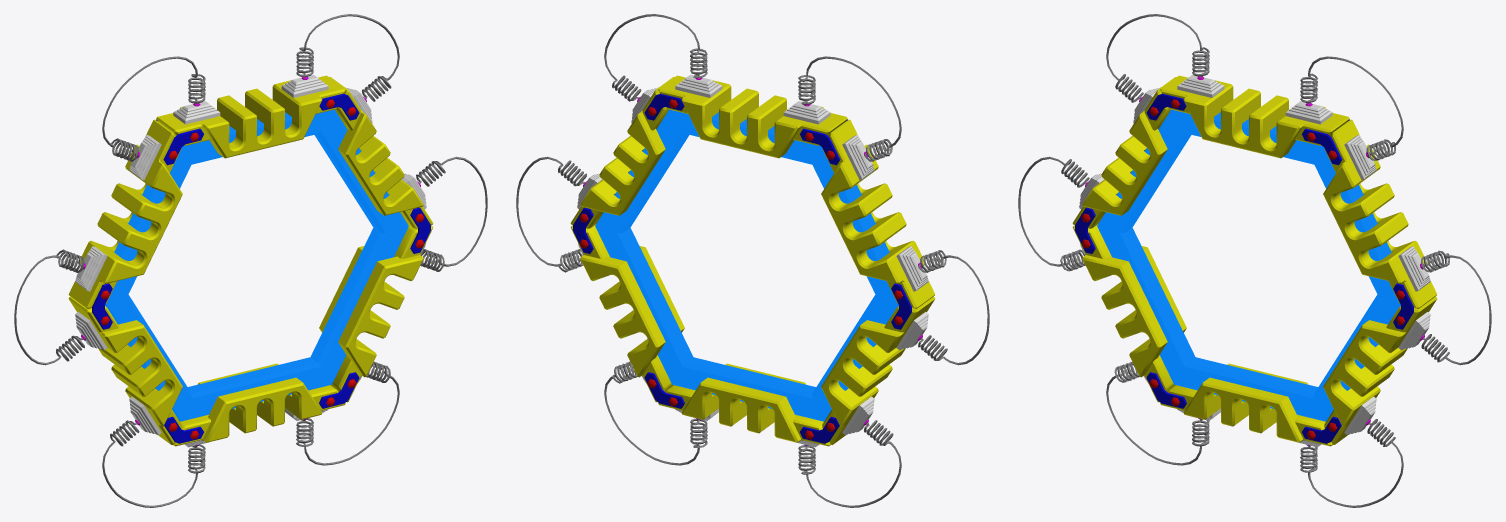
File: Hakkyra5.fbx
3 views of the same model, side by side, from view 1: azimuth 30°, elevation 25°; view 2: azimuth 150°, elevation 25°; view 3: azimuth 330°, elevation 25° (orthographic).
Visible parts, largest first — view 1: Hakkyra, MidPart, ElectriCord; view 2: Hakkyra, MidPart, ElectriCord; view 3: Hakkyra, MidPart, ElectriCord.
Boxes of the visible parts, box(x1,y1,x2,y2) form: Hakkyra: box(68, 74, 433, 447); MidPart: box(105, 109, 408, 421); ElectriCord: box(14, 14, 487, 507); Hakkyra: box(570, 74, 935, 447); MidPart: box(595, 109, 898, 421); ElectriCord: box(516, 14, 989, 507); Hakkyra: box(1072, 74, 1437, 447); MidPart: box(1097, 109, 1400, 421); ElectriCord: box(1018, 14, 1491, 507).
Size of the model in its own units: 67.77 by 61.29 by 7.
